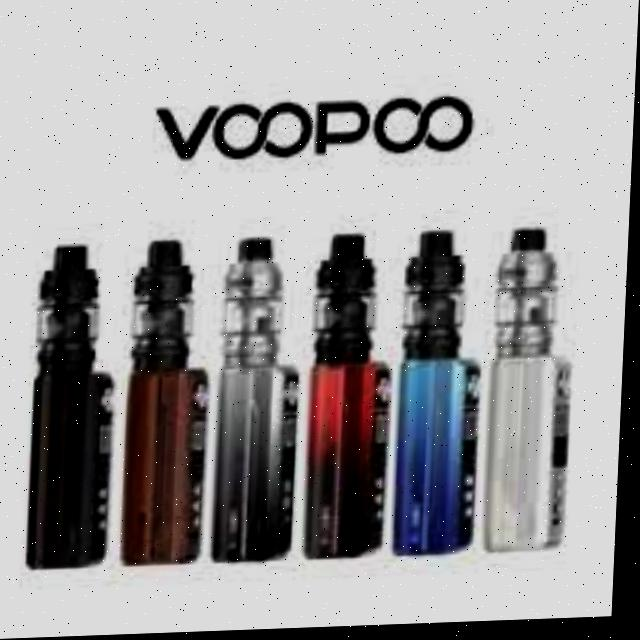vape: (31, 244, 126, 571), (308, 234, 401, 564), (487, 232, 581, 556), (397, 234, 490, 561), (124, 240, 217, 565), (218, 238, 308, 566)
